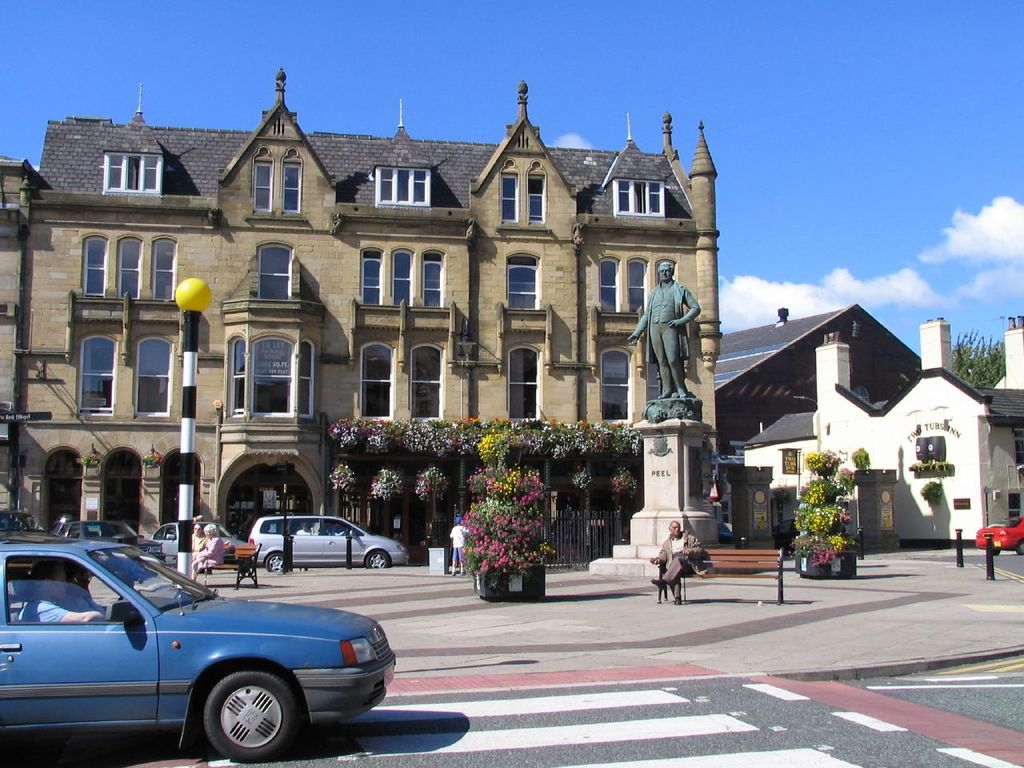cars: (9, 534, 409, 753), (244, 512, 408, 570), (42, 510, 172, 558), (152, 510, 236, 570), (975, 510, 1023, 558)
